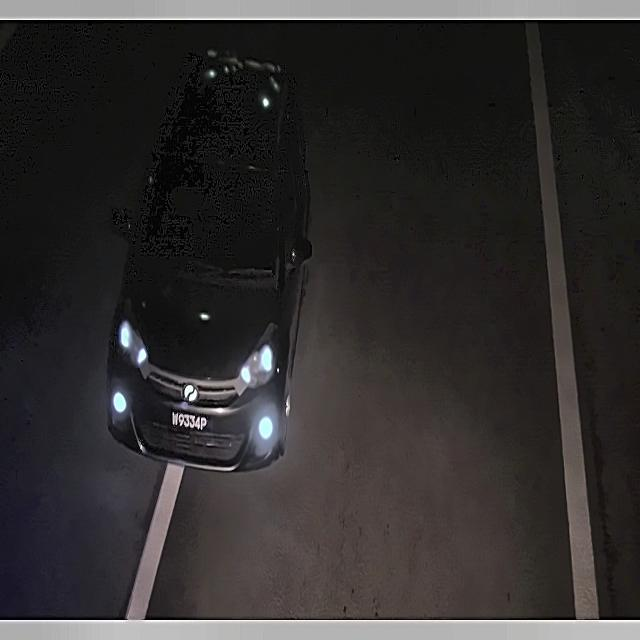car: (166, 402, 214, 441)
